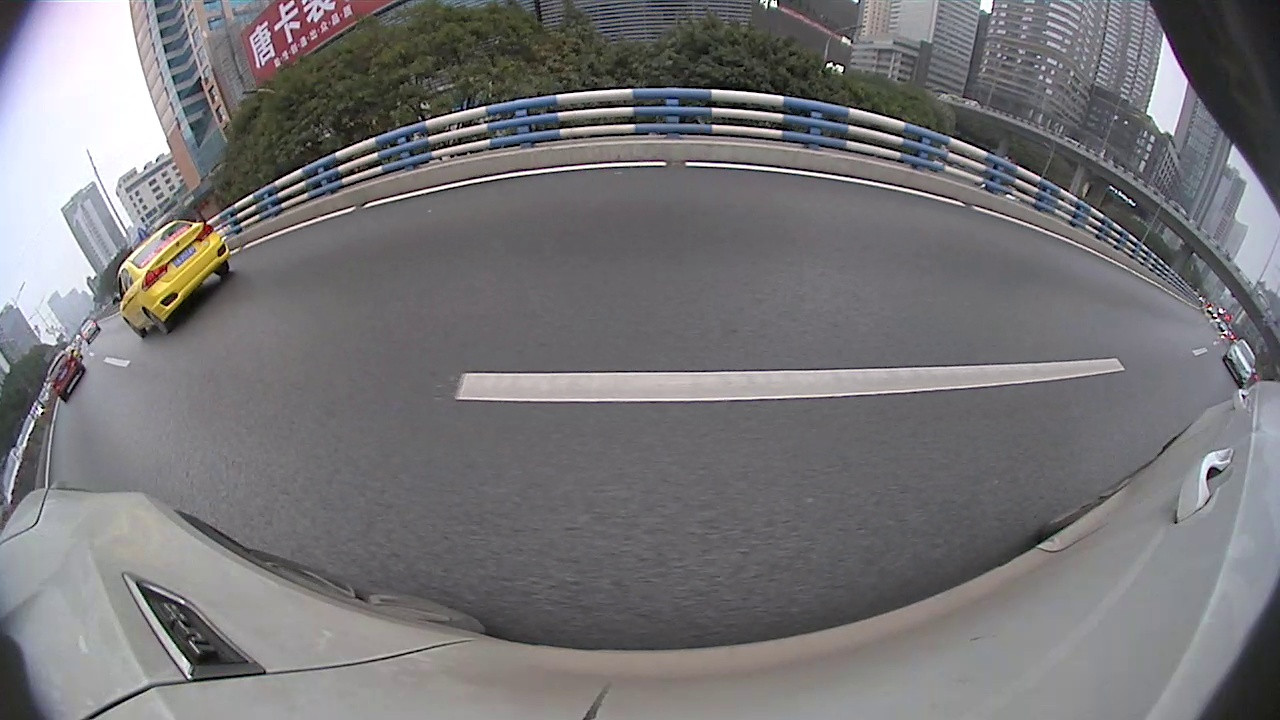car: (114, 216, 231, 342), (47, 347, 89, 402), (1220, 335, 1257, 390)
front: (125, 318, 144, 336)
rear: (145, 309, 169, 333)
